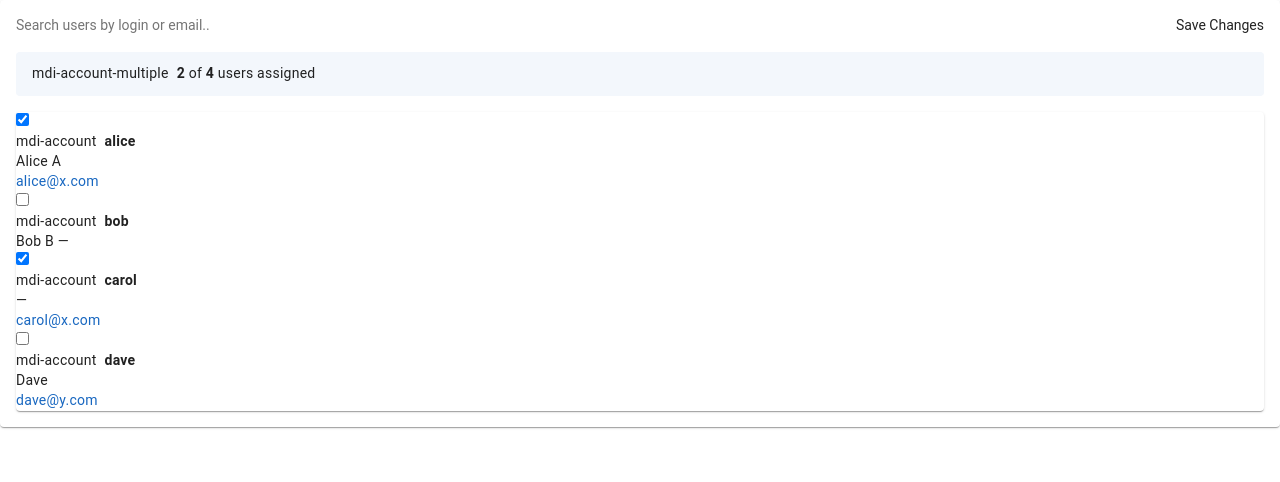
Test: RoleUsersTab interactions › saves changes: assigns new users and removes deselected ones
Click the 2nd checkbox with class "stub-checkbox" at (22, 199), box [16, 193, 29, 206]
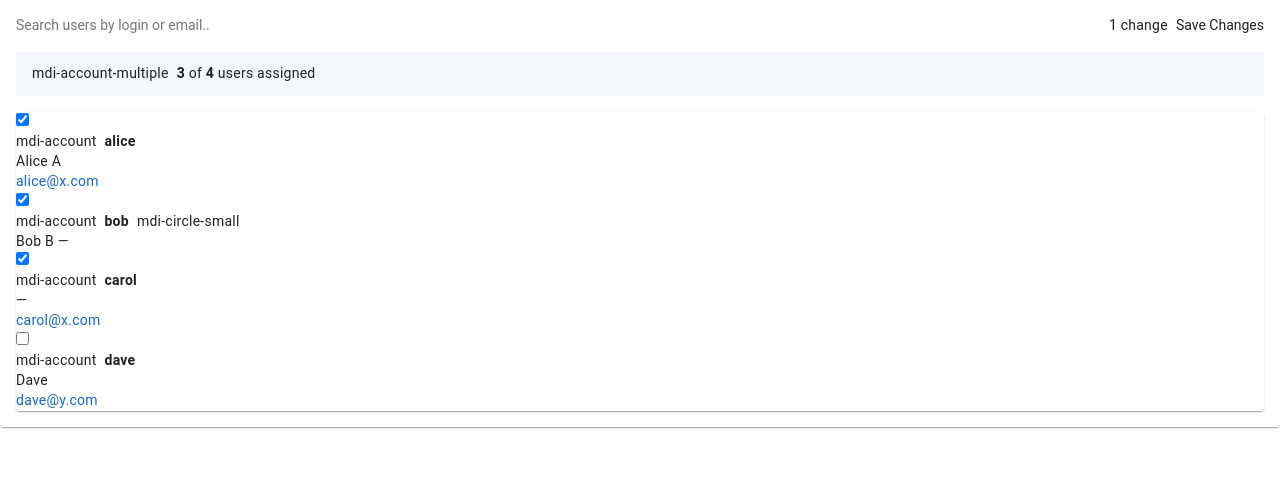
Click the 3rd checkbox with class "stub-checkbox" at (22, 259), box [16, 252, 29, 265]
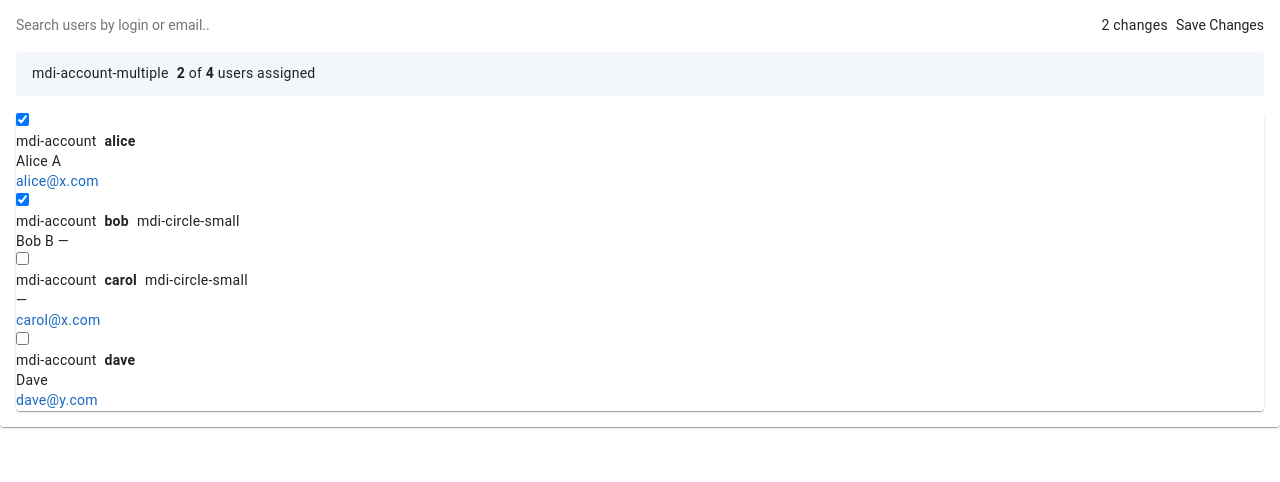
Click the button with class "stub-save-btn" at (1220, 26), box [1176, 16, 1264, 36]
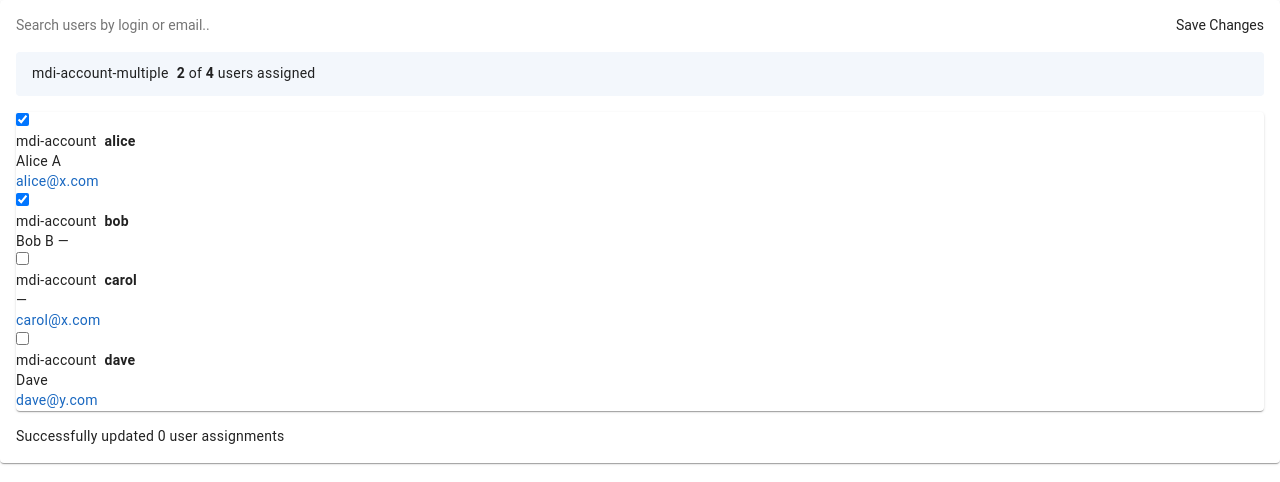
Expected: the text "Successfully updated" is shown, [16, 428, 284, 444]
